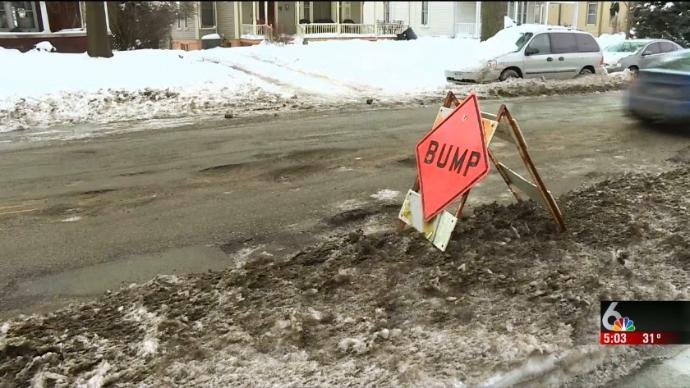pothole: (199, 147, 359, 189)
